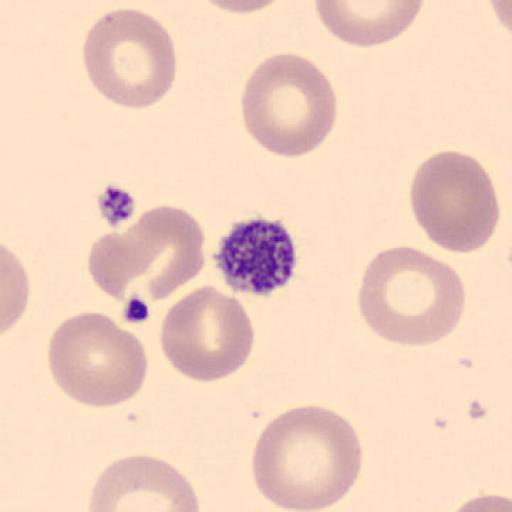Platelet: (211, 214, 300, 297)
RBC: (84, 202, 206, 307), (250, 403, 364, 512), (356, 244, 467, 348), (240, 51, 338, 159), (47, 310, 151, 409), (80, 6, 178, 111), (409, 149, 500, 256), (159, 284, 255, 384), (88, 453, 202, 512), (313, 0, 425, 48), (0, 243, 30, 337), (198, 0, 288, 16), (446, 492, 512, 511), (489, 0, 512, 38)
